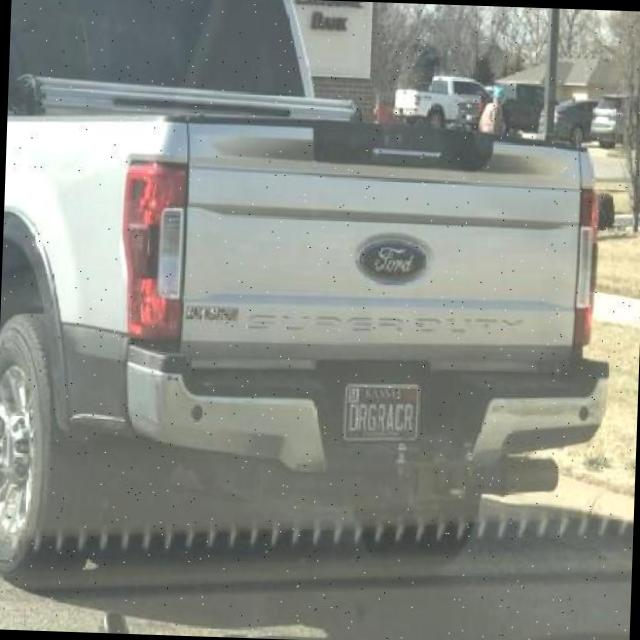LicensePlate: (342, 381, 418, 441)
